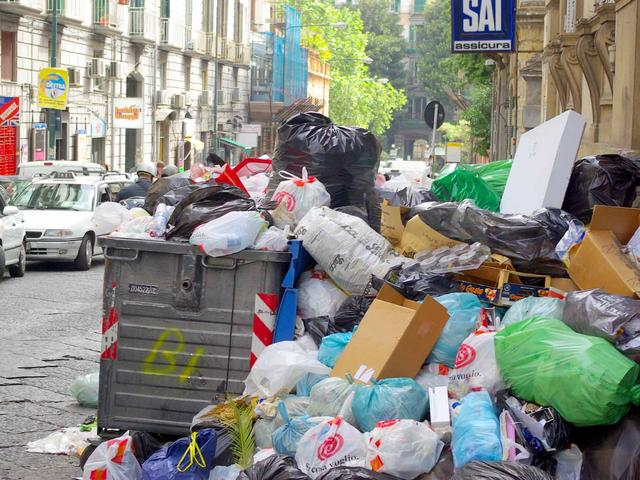garbage: (280, 188, 550, 451), (185, 181, 287, 238)
